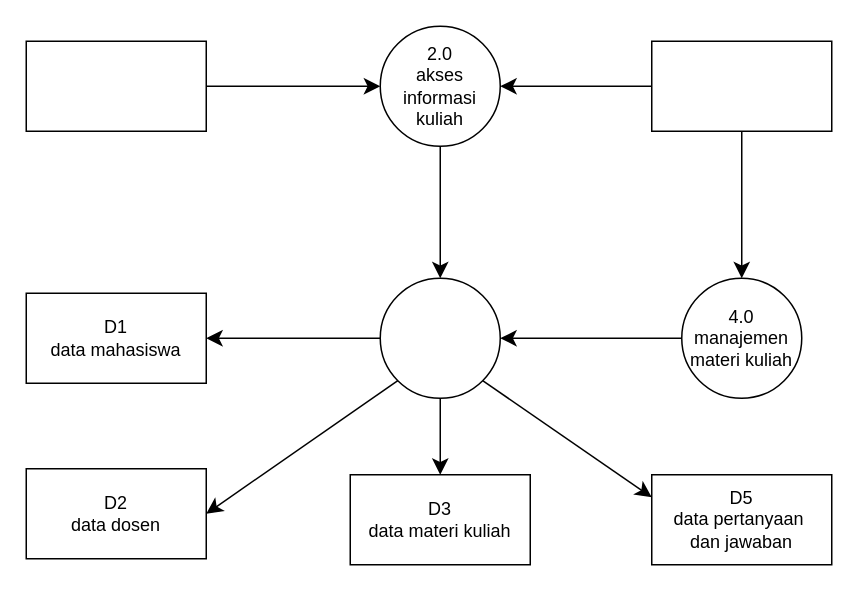
Image size: 858x591. Some labels were removed from this diagram. The shapes that lost their labels are listed below. From the top down, each one's box as (x1, y1, x2, y2) in pixels, then its label:
(25, 40, 206, 131): 1.0 kelola data akademik
(650, 40, 832, 131): D4 data mata kuliah
(379, 277, 500, 398): 3.0 komunikasi mahasiswa-dosen
